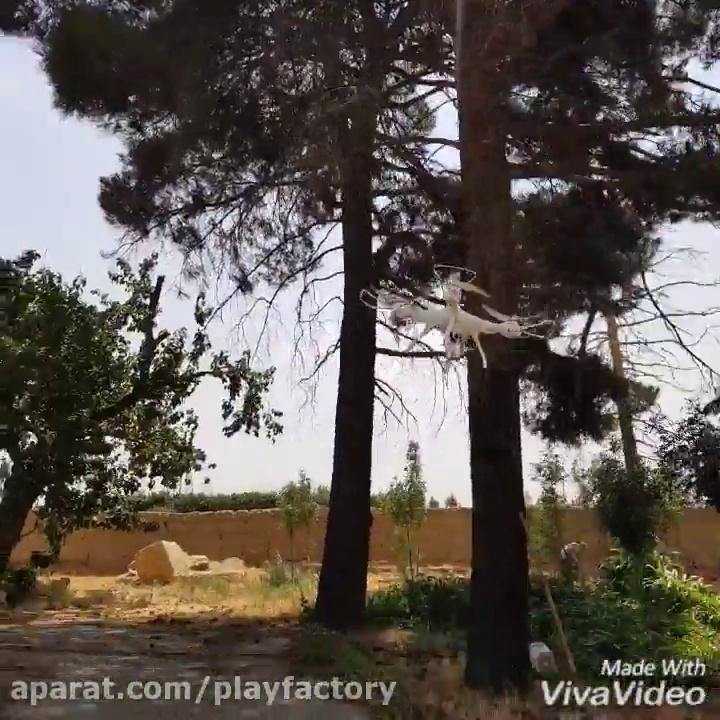drone: (359, 262, 556, 368)
